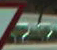Give way: (1, 0, 29, 49)
